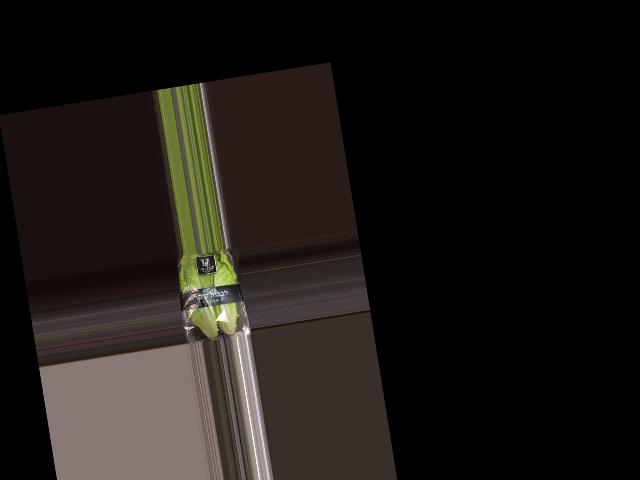lettuce: (177, 247, 250, 344)
